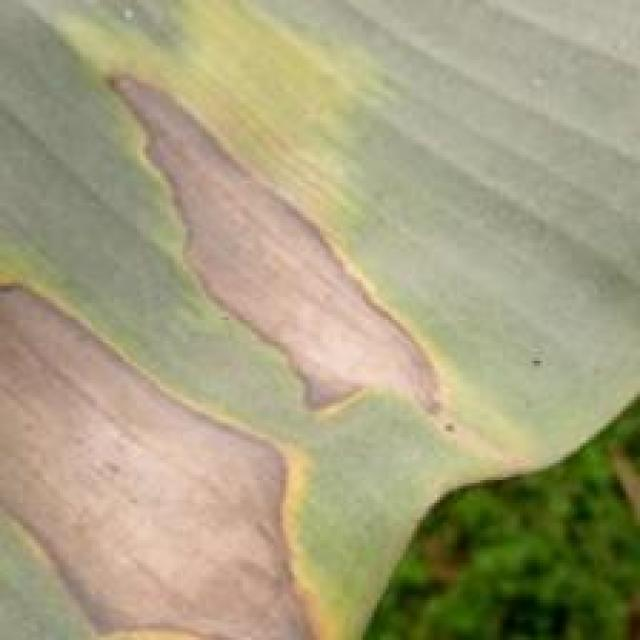Bacterial_spot: (80, 51, 487, 478), (0, 254, 360, 637)
